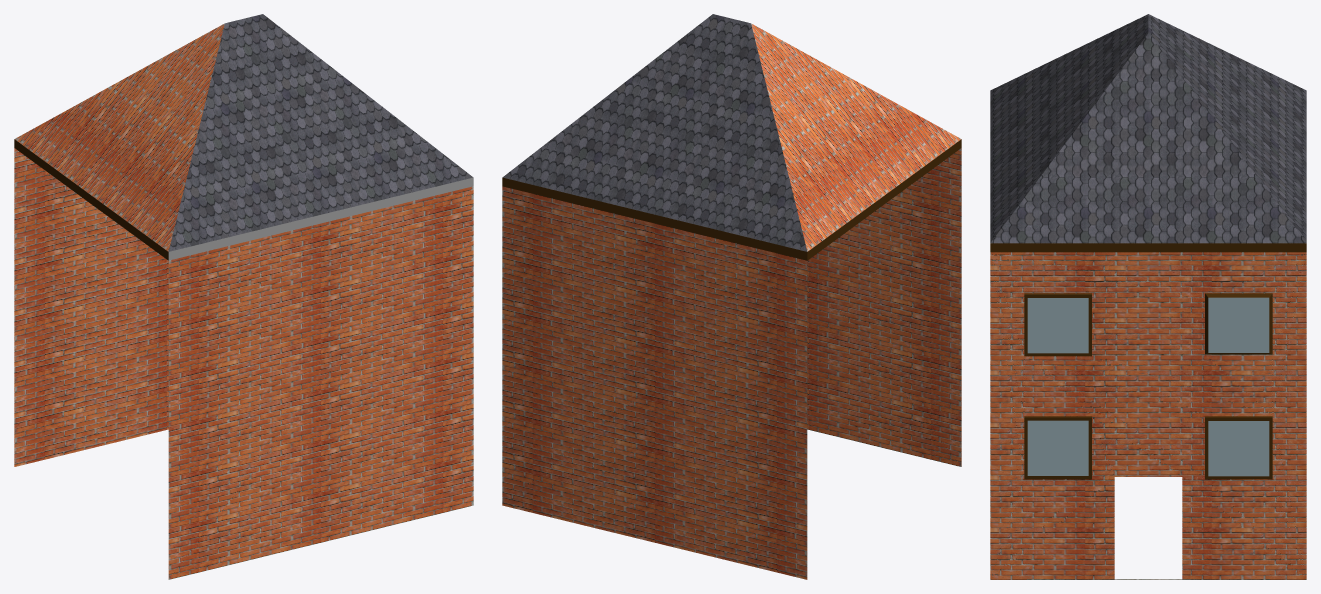
The model's file is building_entrance.fbx.
3 renders of one model, left to right at view 1: azimuth 30°, elevation 25°; view 2: azimuth 150°, elevation 25°; view 3: azimuth 270°, elevation 25°, orthographic. The views are drawn at different scales.
Visible parts, largest first — view 1: polySurface1; view 2: polySurface1; view 3: pasted__polySurface5, polySurface1, pasted__pCube6, pasted__pCube8, pasted__pCube10, pasted__pCube9.
Boxes of the visible parts, x1,y1,x2,y2 form: polySurface1: (14,14,473,579); polySurface1: (502,14,961,579); pasted__polySurface5: (990,252,1306,579); polySurface1: (990,14,1306,252); pasted__pCube6: (1024,293,1091,356); pasted__pCube8: (1024,416,1091,479); pasted__pCube10: (1205,416,1272,479); pasted__pCube9: (1205,293,1272,354).
Size of the model in its own units: 0.0808 by 0.1172 by 0.07.
5 materials, 2 textured.
